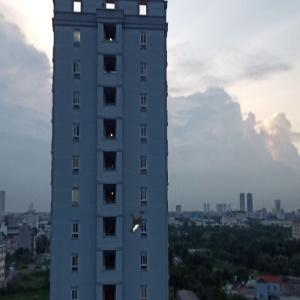drone: (108, 193, 166, 251)
